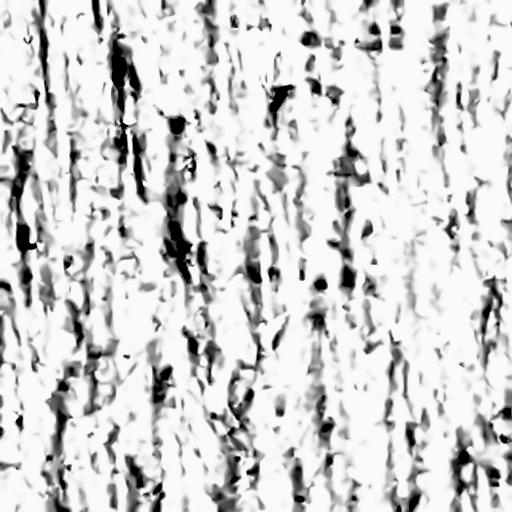egg: (273, 85, 293, 111), (17, 226, 28, 250)
